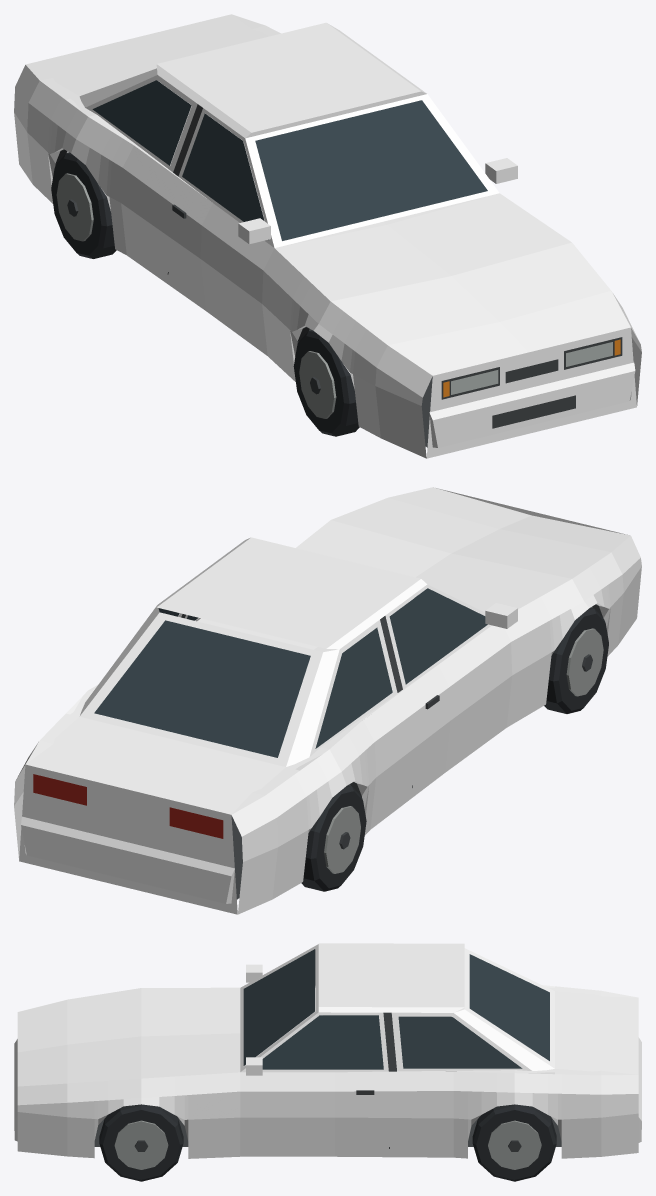
Rendered from hozuki_byakko.glb.
The picture shows the model from 3 angles, top to bottom: view 1: azimuth 30°, elevation 25°; view 2: azimuth 150°, elevation 25°; view 3: azimuth 270°, elevation 25°; orthographic projection. The views are drawn at different scales.
Parts seen in each view (by area): view 1: hozuki_byakko; view 2: hozuki_byakko; view 3: hozuki_byakko.
Part boxes in pixels (x1,y1,x2,y2): hozuki_byakko: (14, 14, 641, 458); hozuki_byakko: (14, 487, 641, 914); hozuki_byakko: (14, 943, 641, 1181).
Size of the model in its own units: 1.77 by 1.26 by 4.54.
8 materials, 1 textured.
